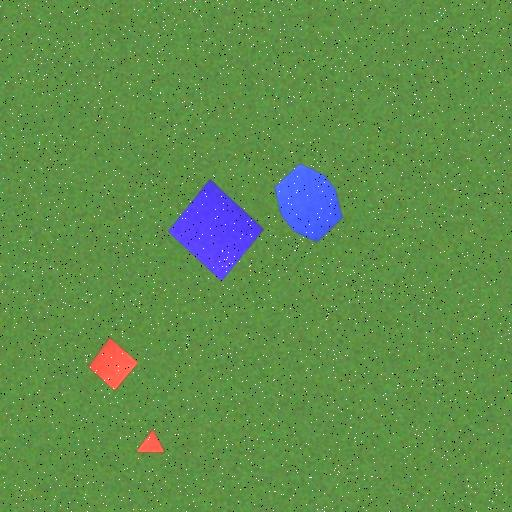BLUE_SQUARE: (167, 178, 265, 281)
RED_SQUARE: (87, 337, 139, 392)
